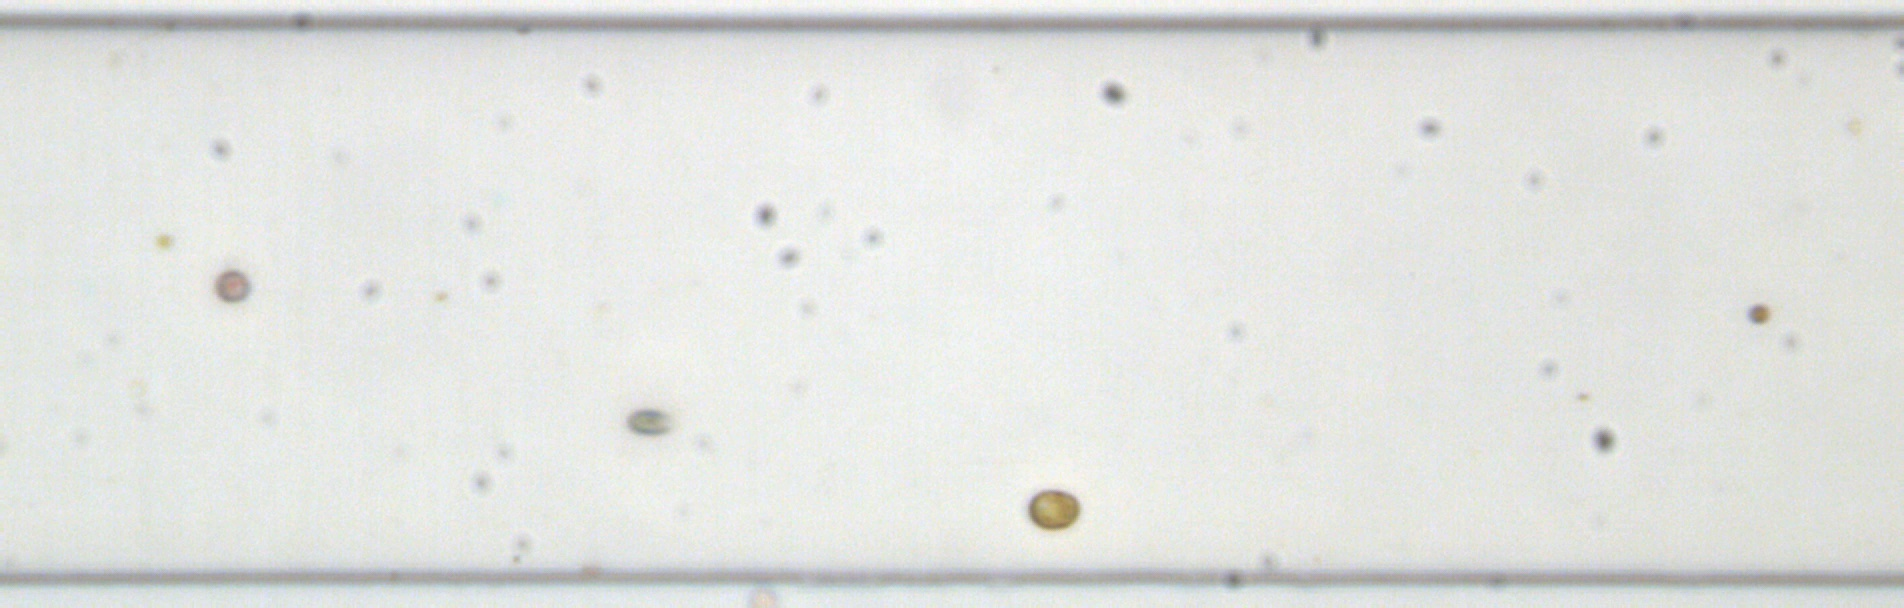Chlorella: (154, 231, 172, 249), (433, 286, 450, 303)
Dunaliella salina: (623, 405, 673, 437)
Effrenium: (1022, 487, 1083, 532)
Porphyridium: (212, 267, 253, 303), (1746, 301, 1769, 325)
